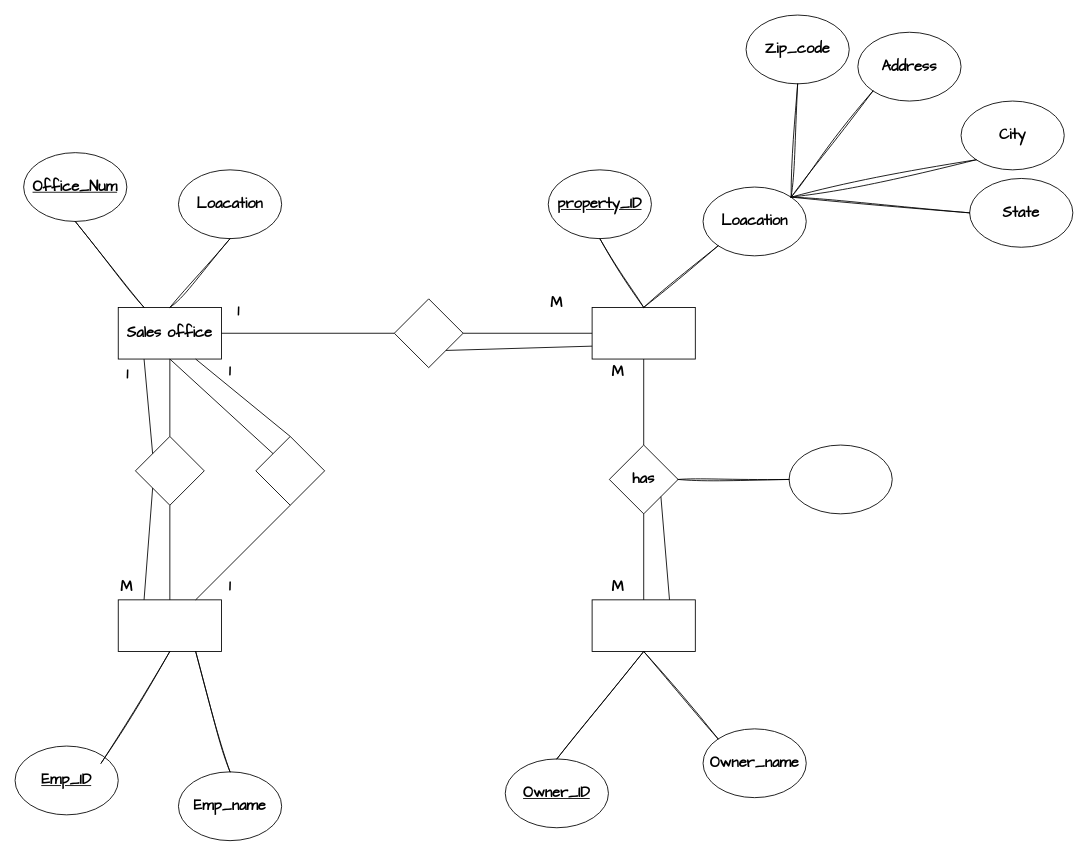
Some shapes in this 1088 by 856 pixel diagram are drawn without their labels. The shapes that lost their labels are listed below. From the top down, each one's centre as x and y in pixels, then its label:
point 428,333: list
point 643,333: Property
point 169,470: assign
point 290,470: manage
point 840,479: Percent
point 169,625: Employee
point 643,625: Owner
